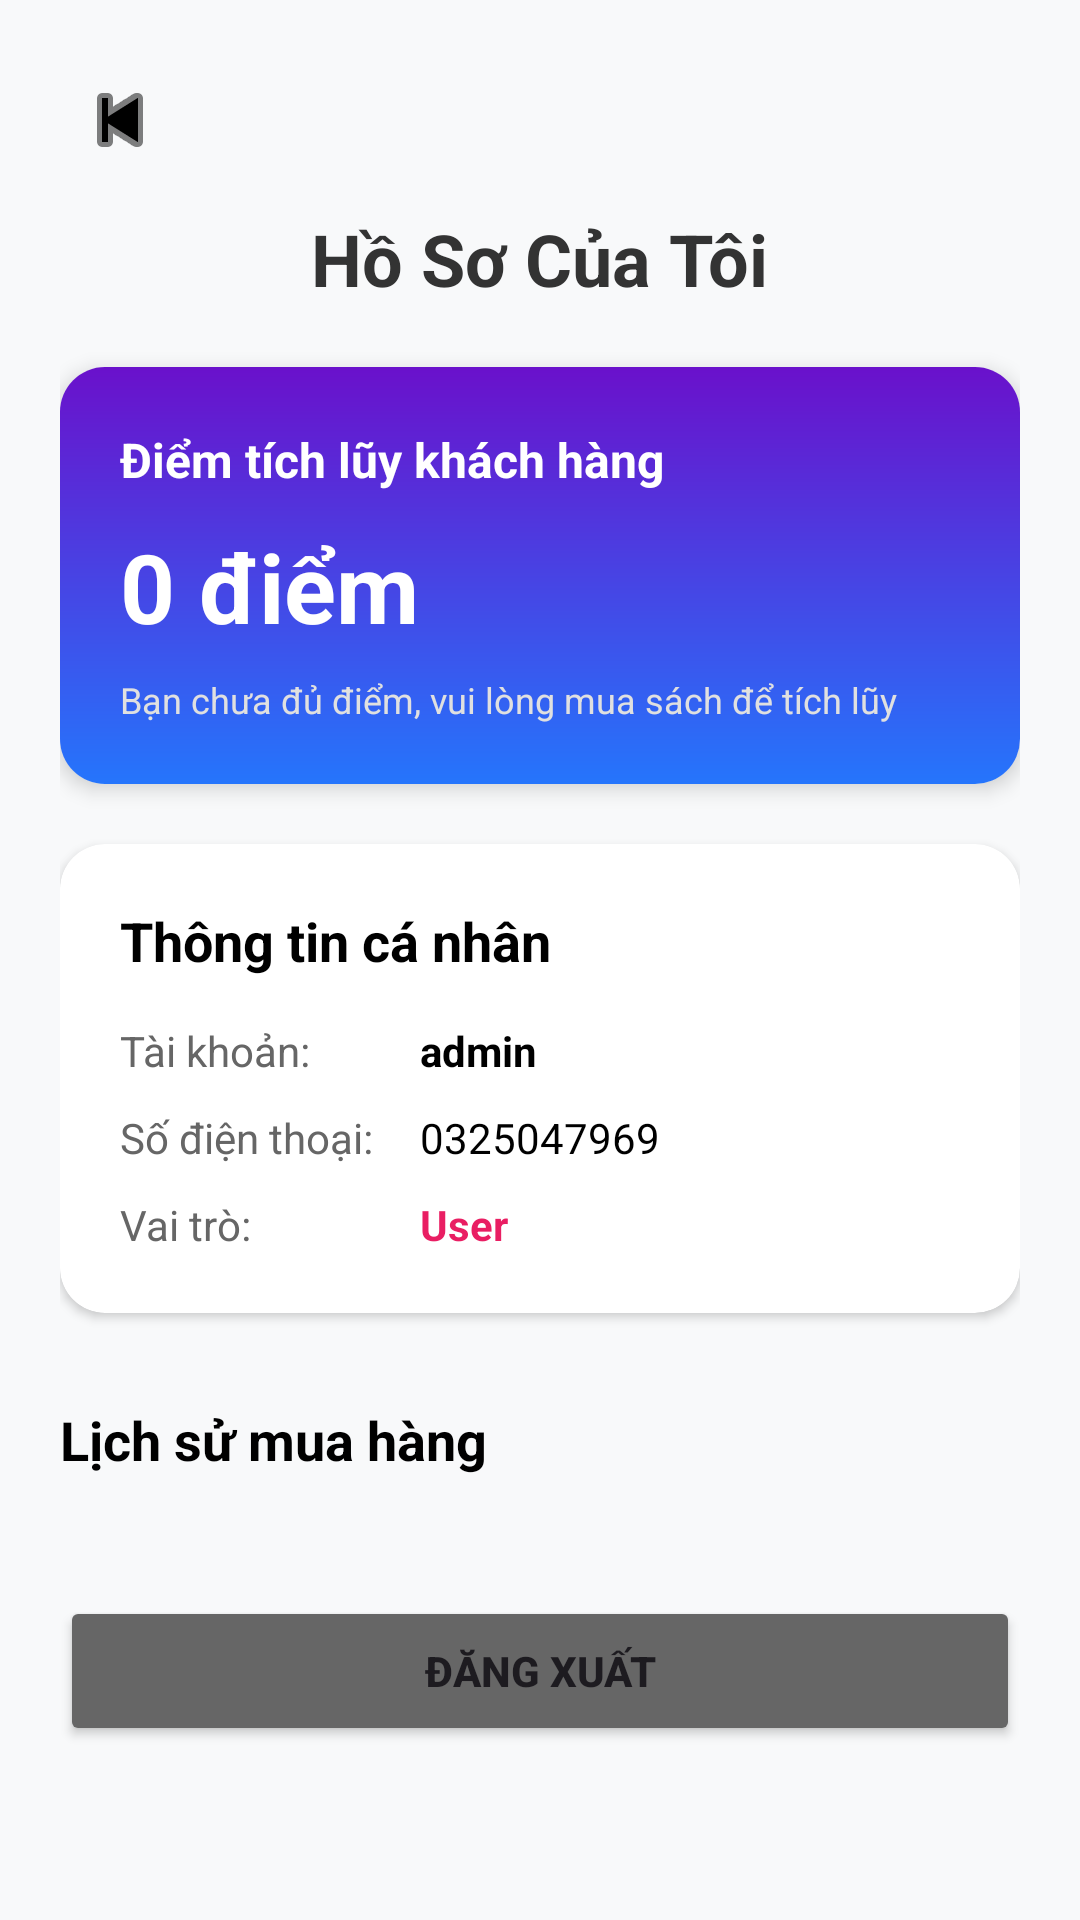

Icon click points for this 1080px x 1920px phone screenshot, format [x,y]:
previous: [120,120]
